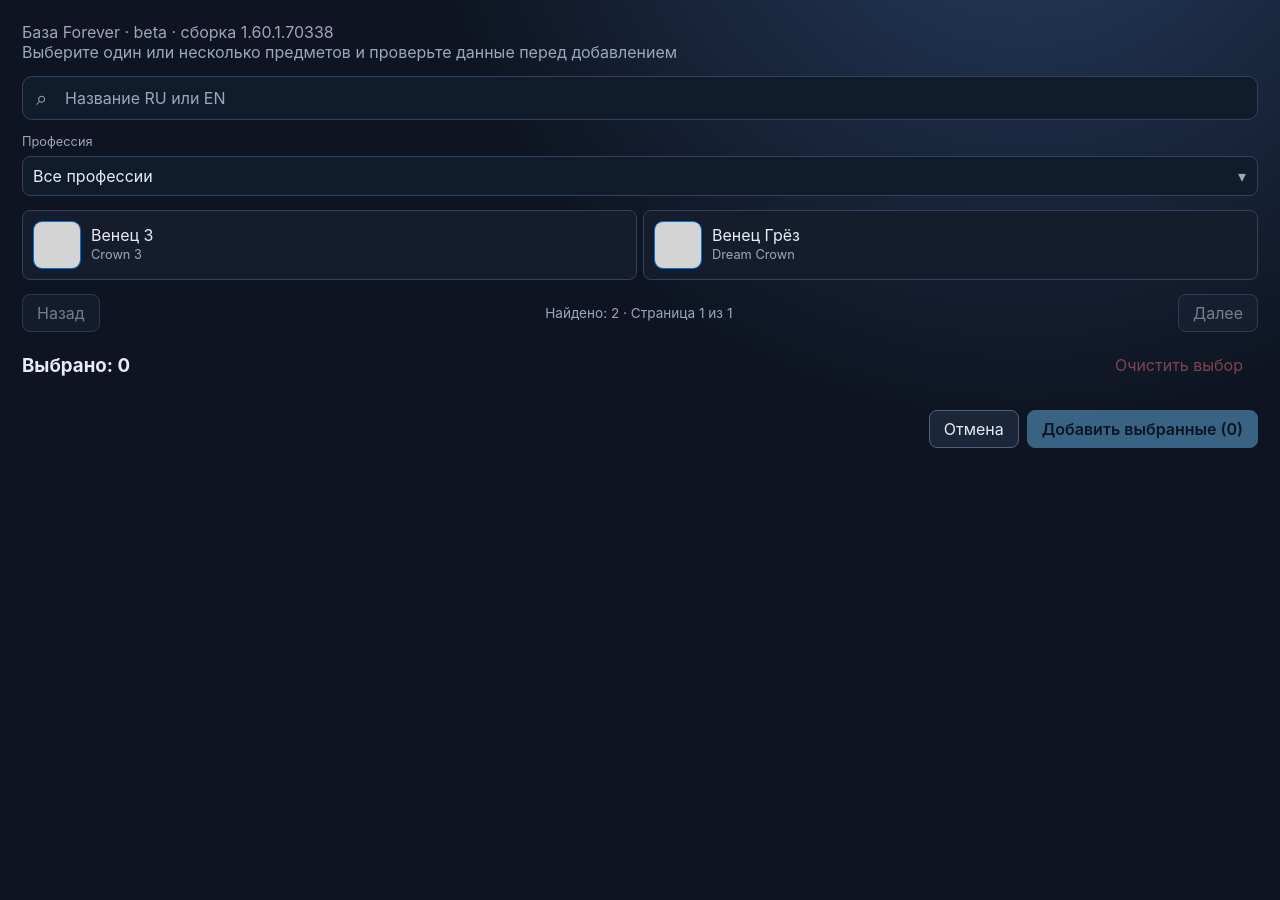
Test case: переключает предпросмотр и фокус на соседнюю позицию после удаления
The width and height of the screenshot is (1280, 900).
Click the button "Венец Грёз Dream Crown": (678, 245) [643, 210, 1258, 280]
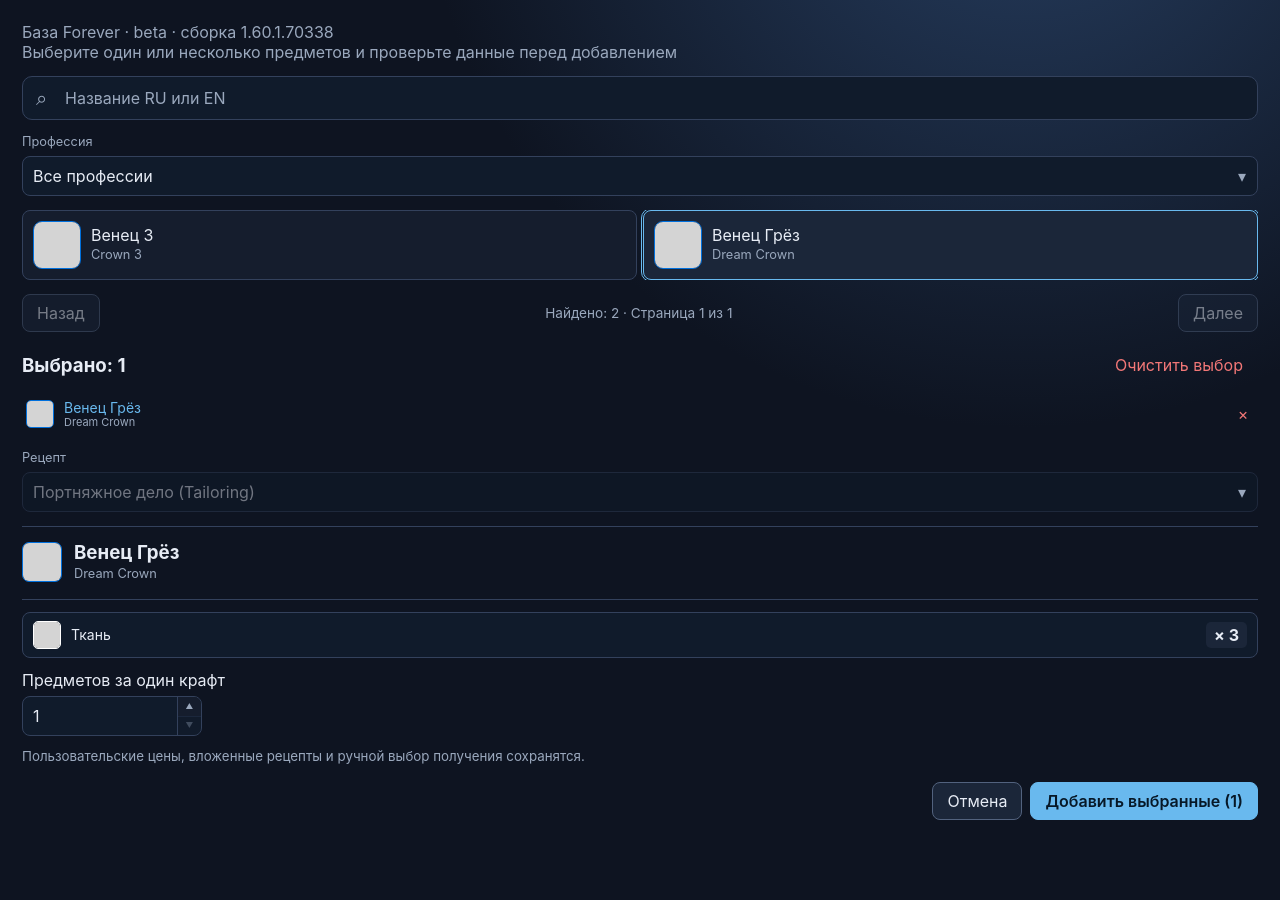
Click the button "Венец 3 Crown 3": (57, 245) [22, 210, 637, 280]
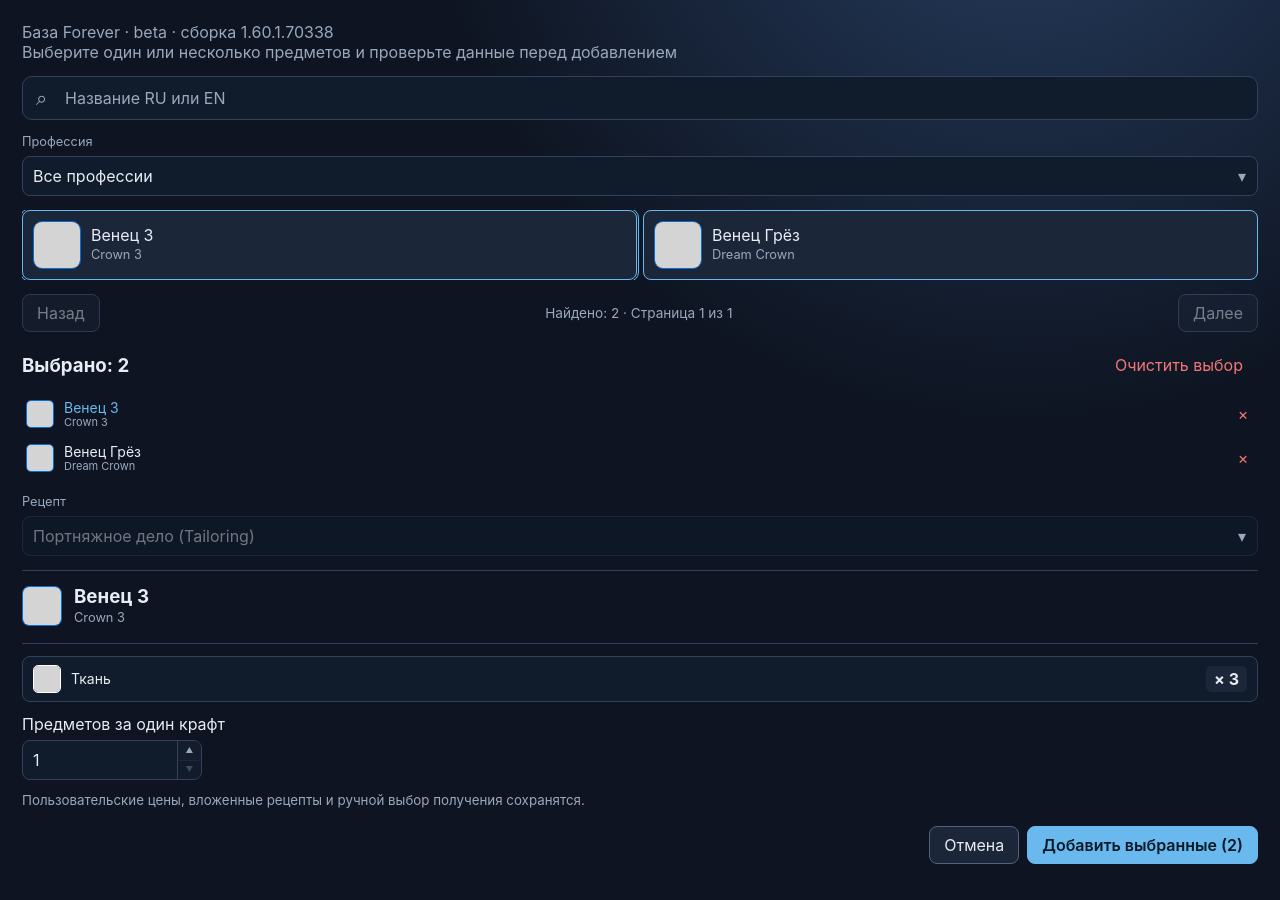
Click the button named "Убрать из выбора: Венец 3": (1243, 414) [1228, 399, 1258, 429]
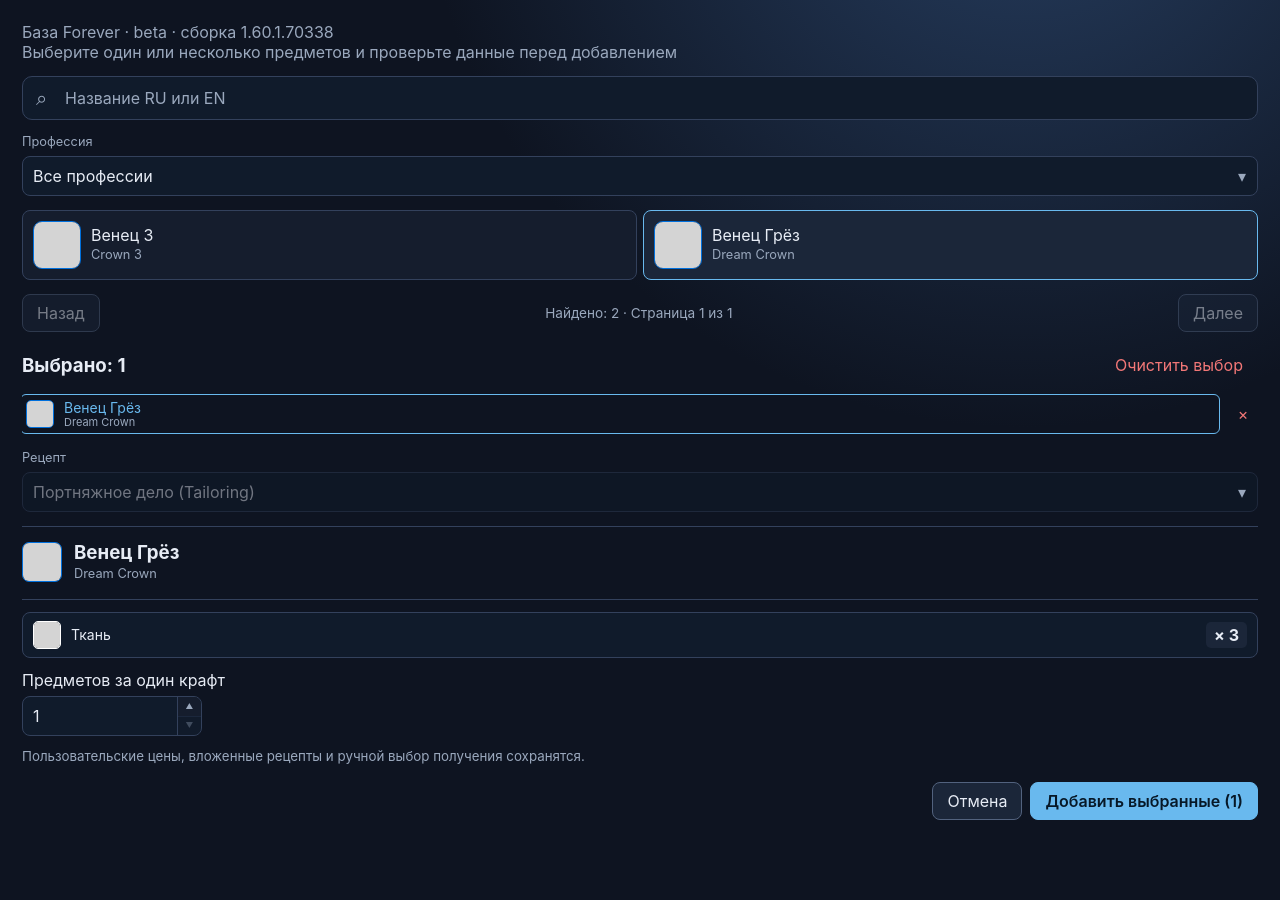
Check: the heading "Венец Грёз" is shown, box [74, 541, 180, 564]
